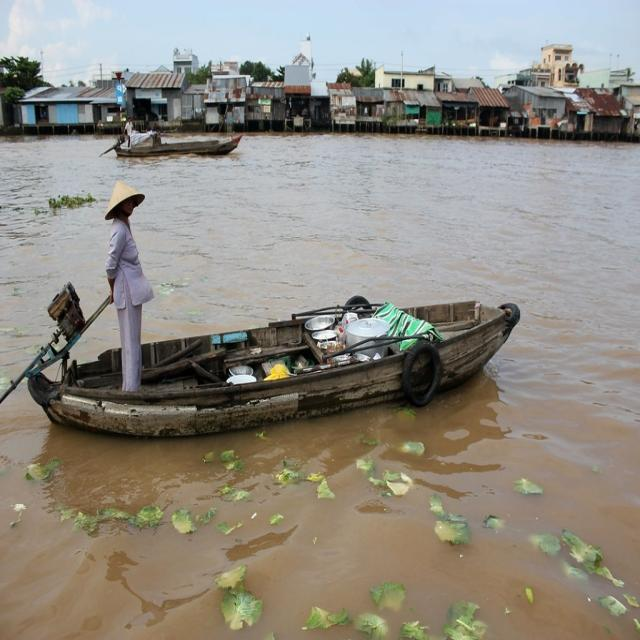Hyacinth: (45, 192, 101, 213)
boat: (19, 298, 572, 448), (106, 132, 250, 162)
